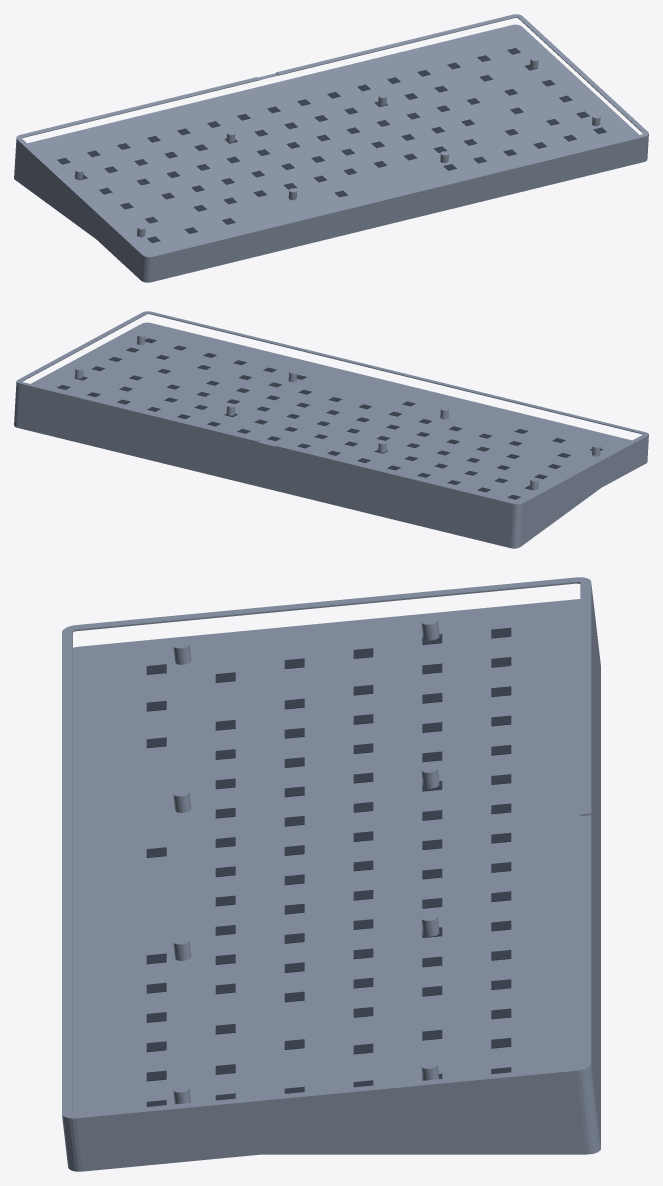
File: reference-75.glb
3 renders of one model, top to bottom at view 1: azimuth 30°, elevation 25°; view 2: azimuth 150°, elevation 25°; view 3: azimuth 270°, elevation 25°, orthographic. The views are drawn at different scales.
Parts seen in each view (by area): view 1: bottomCase/case-bottom, topCase/case-top, switches/switches; view 2: bottomCase/case-bottom, topCase/case-top, switches/switches; view 3: bottomCase/case-bottom, switches/switches, topCase/case-top.
Part boxes in pixels (x1,y1,x2,y2): bottomCase/case-bottom: (14,14,648,273); topCase/case-top: (15,150,647,282); switches/switches: (57,48,606,242); bottomCase/case-bottom: (14,311,648,548); topCase/case-top: (15,399,647,531); switches/switches: (57,338,602,499); bottomCase/case-bottom: (62,577,600,1154); switches/switches: (146,627,511,1106); topCase/case-top: (66,616,597,1171).
Bounding box in the file's own units: 1.05e+07 × 1076756 × 4855744.
